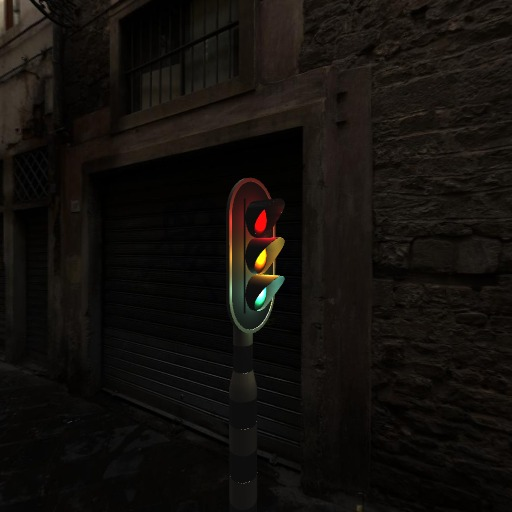All_Light: (227, 176, 286, 336)
